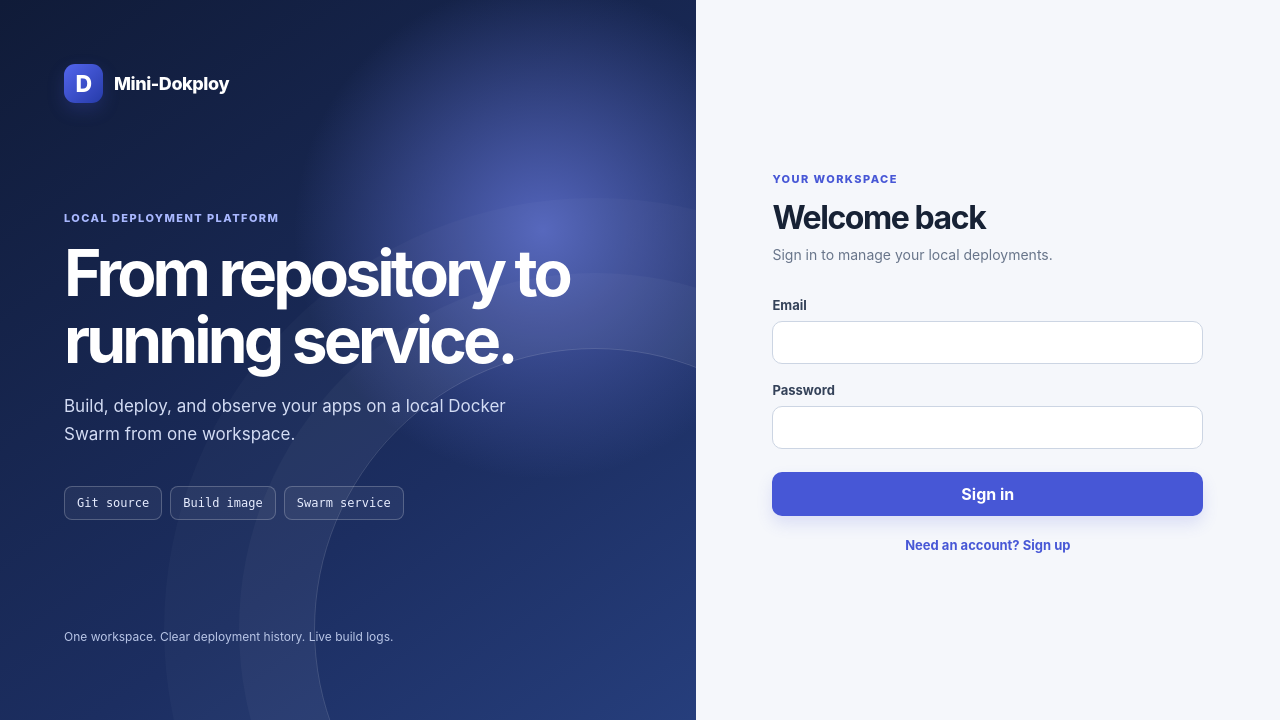
Test: Mini-Dokploy page › displays an authentication error and lets the visitor switch modes
Type "alice@example.com" into the field labelled "Email" at (988, 342), box left=772, top=321, right=1203, bottom=364
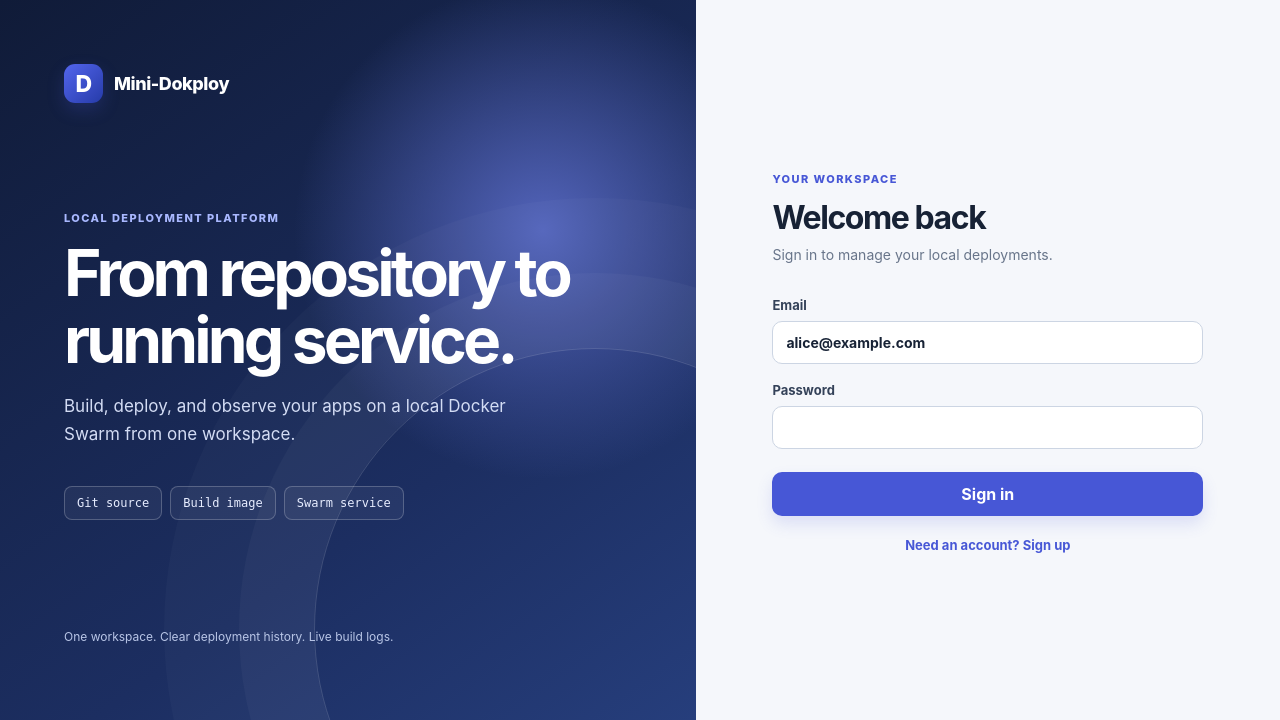
Type "WrongPassword123!" into the password field labelled "Password" at (988, 428), box left=772, top=406, right=1203, bottom=449
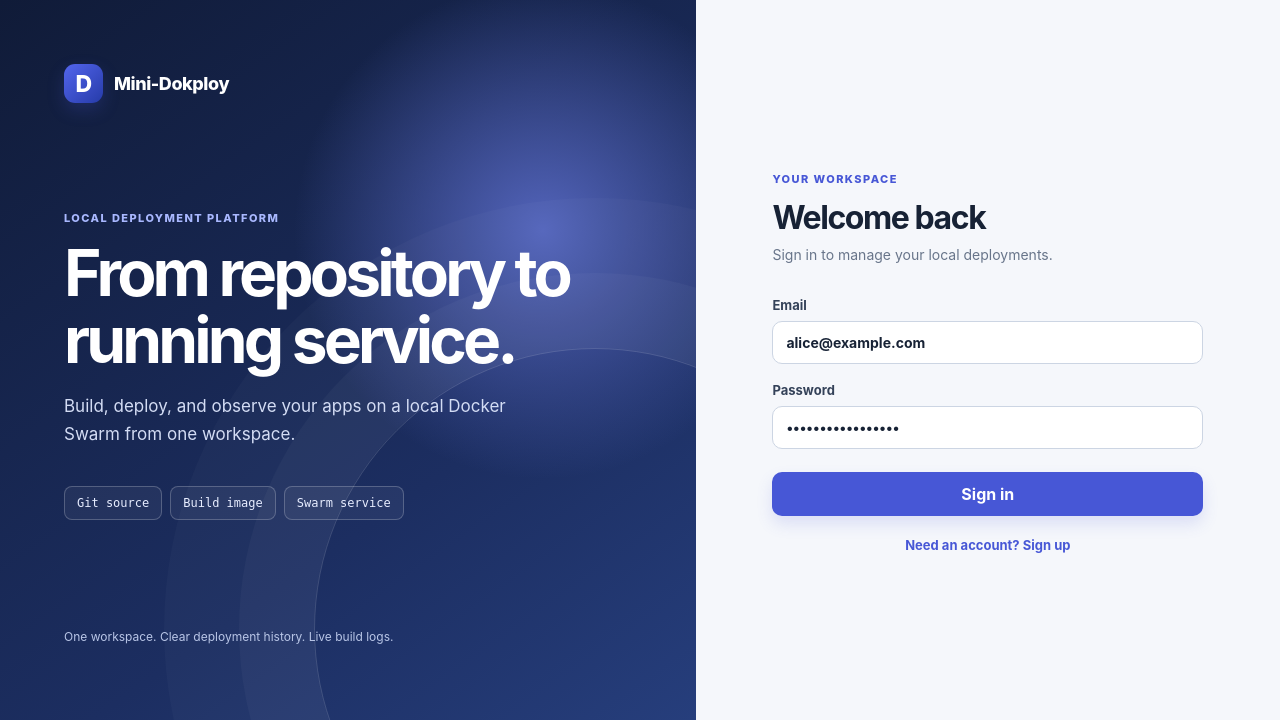
Click the button "Sign in" at (988, 494), box left=772, top=472, right=1203, bottom=516
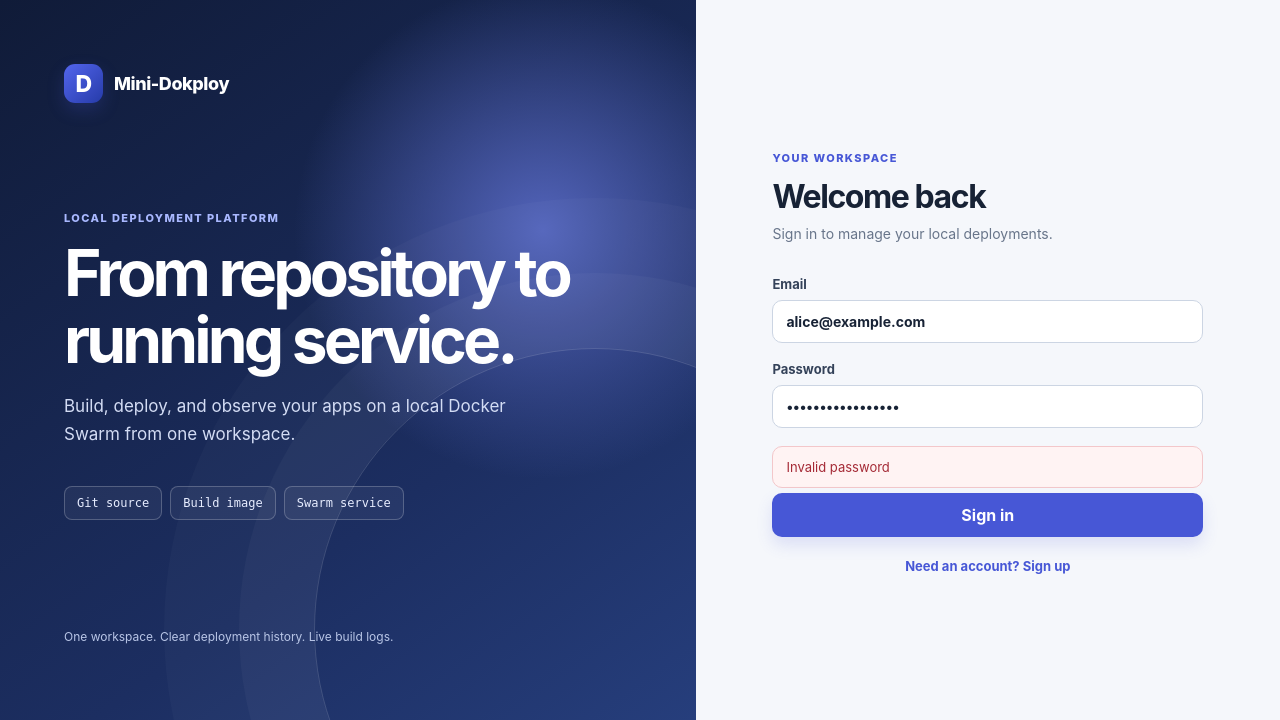
Expected: the message reads "Invalid password", left=786, top=459, right=890, bottom=475
Click the button "Need an account? Sign up" at (988, 566), box left=905, top=558, right=1070, bottom=574
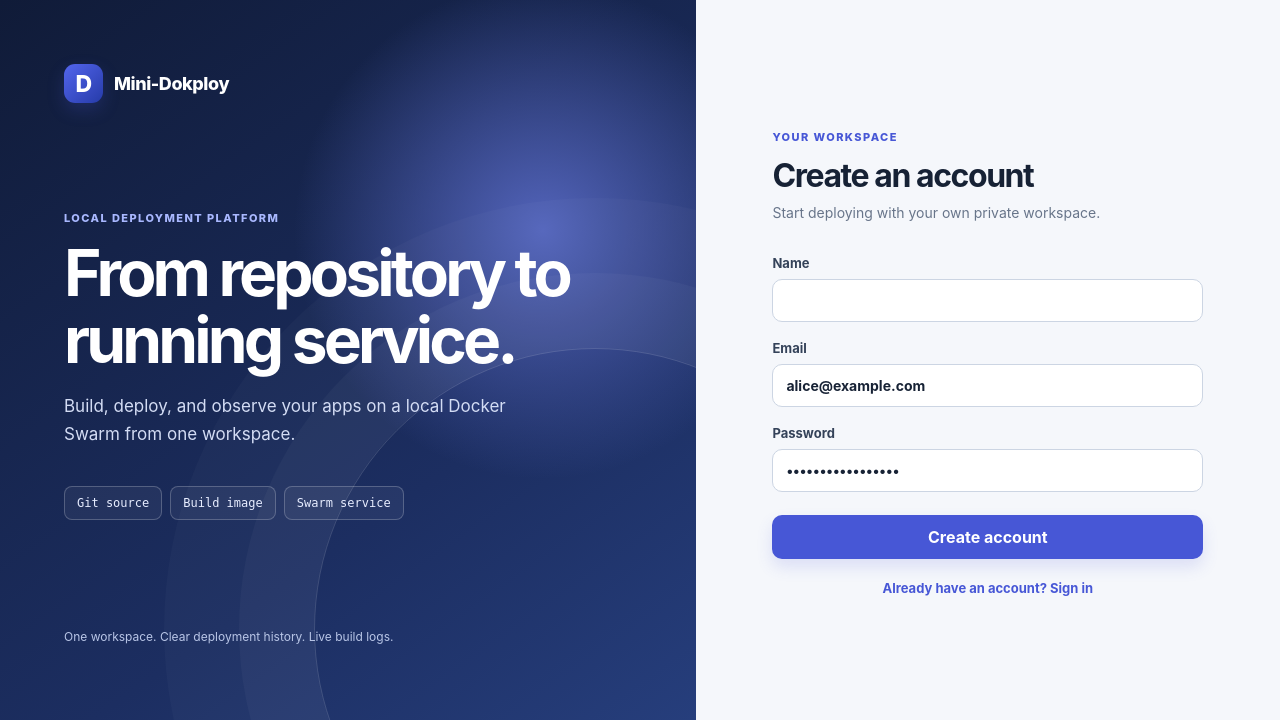
Expected: the message "Invalid password" is gone
Click the button "Already have an account? Sign in" at (988, 588), box left=882, top=580, right=1093, bottom=596
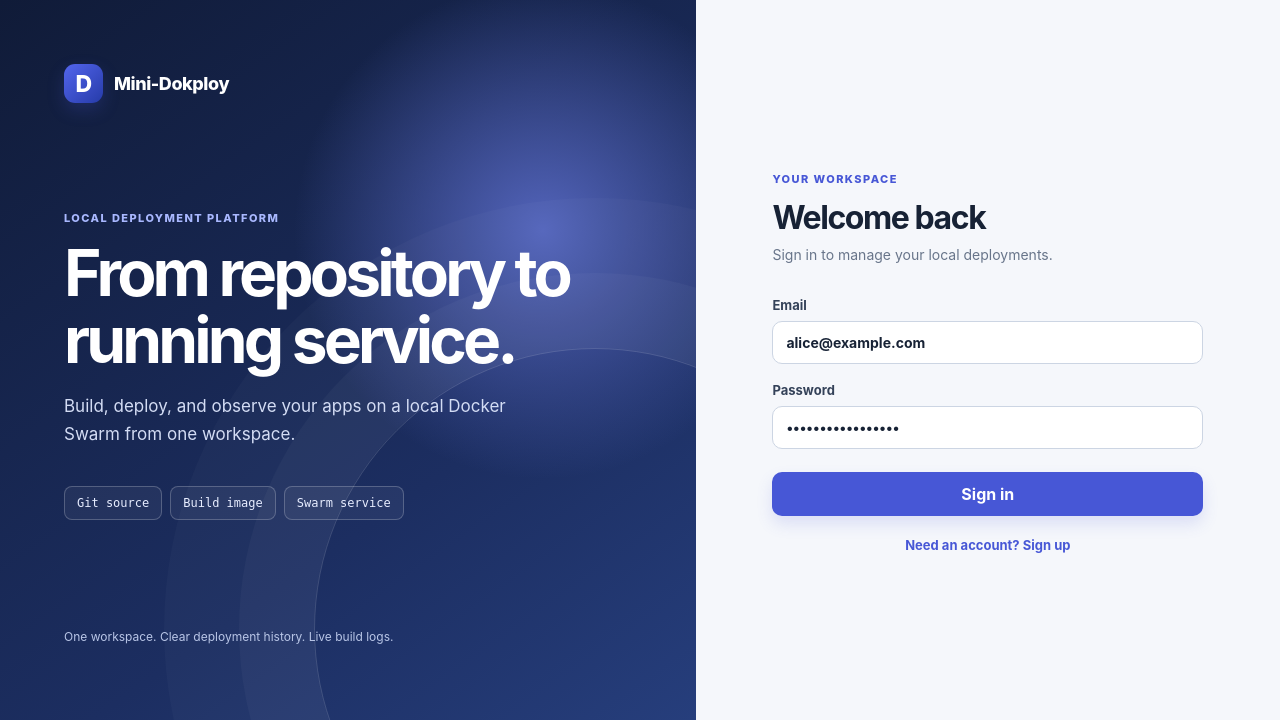
Expected: the button "Sign in" is shown, left=772, top=472, right=1203, bottom=516
